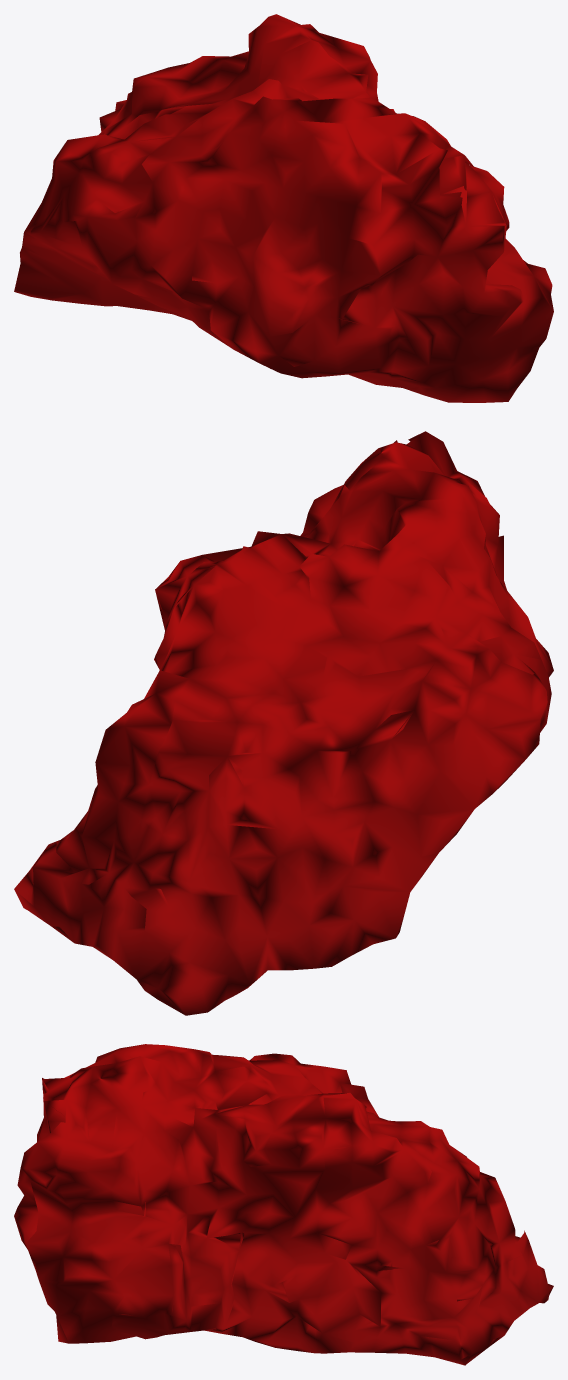
The model's file is boulder.glb.
3 renders of one model, top to bottom at view 1: azimuth 30°, elevation 25°; view 2: azimuth 150°, elevation 25°; view 3: azimuth 270°, elevation 25°, orthographic. The views are drawn at different scales.
Visible parts, largest first — view 1: LOD0; view 2: LOD0; view 3: LOD0.
Boxes of the visible parts, x1=… form: LOD0: x1=14, y1=14, x2=553, y2=402; LOD0: x1=14, y1=431, x2=553, y2=1015; LOD0: x1=14, y1=1044, x2=553, y2=1365.
Size of what is drawn, in the model's own units: 1.27 by 0.9766 by 1.82.
